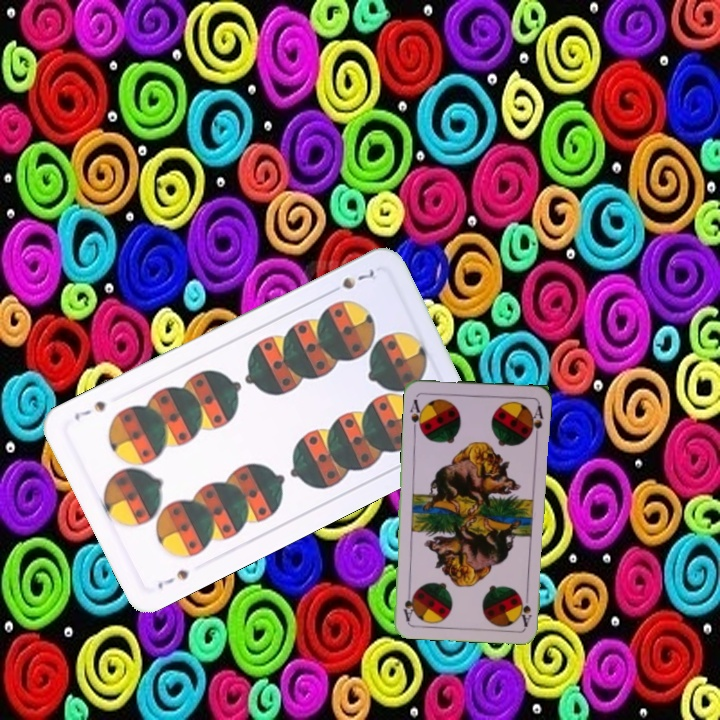S7: (324, 263, 380, 297), (153, 565, 192, 592)
SA: (406, 395, 426, 434), (516, 588, 534, 629)
